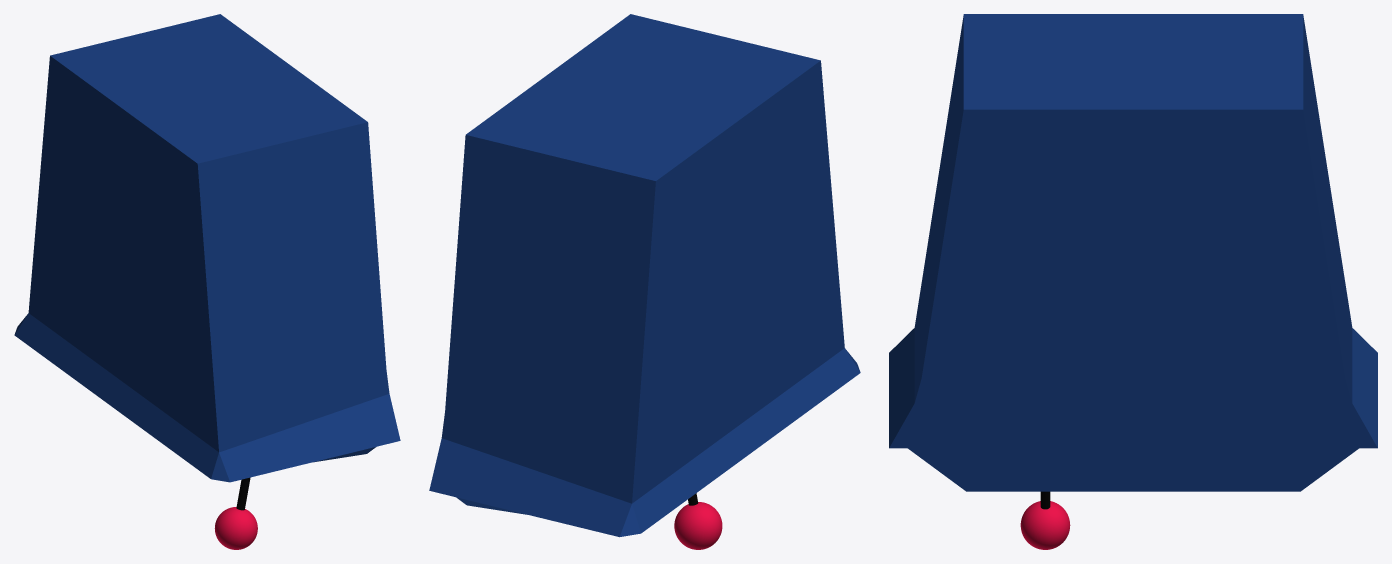
File: Control 1.fbx
3 views of the same model, side by side, from view 1: azimuth 30°, elevation 25°; view 2: azimuth 150°, elevation 25°; view 3: azimuth 270°, elevation 25° (orthographic). The views are drawn at different scales.
Parts seen in each view (by area): view 1: Cube.001, Sphere.001; view 2: Cube.001, Sphere.001; view 3: Cube.001, Sphere.001.
Boxes of the visible parts, x1,y1,x2,y2 form: Cube.001: (14, 14, 400, 482); Sphere.001: (214, 507, 257, 549); Cube.001: (429, 14, 860, 537); Sphere.001: (674, 502, 722, 549); Cube.001: (889, 14, 1377, 491); Sphere.001: (1020, 501, 1070, 549).
Size of the model in its own units: 487 by 1098 by 988.
